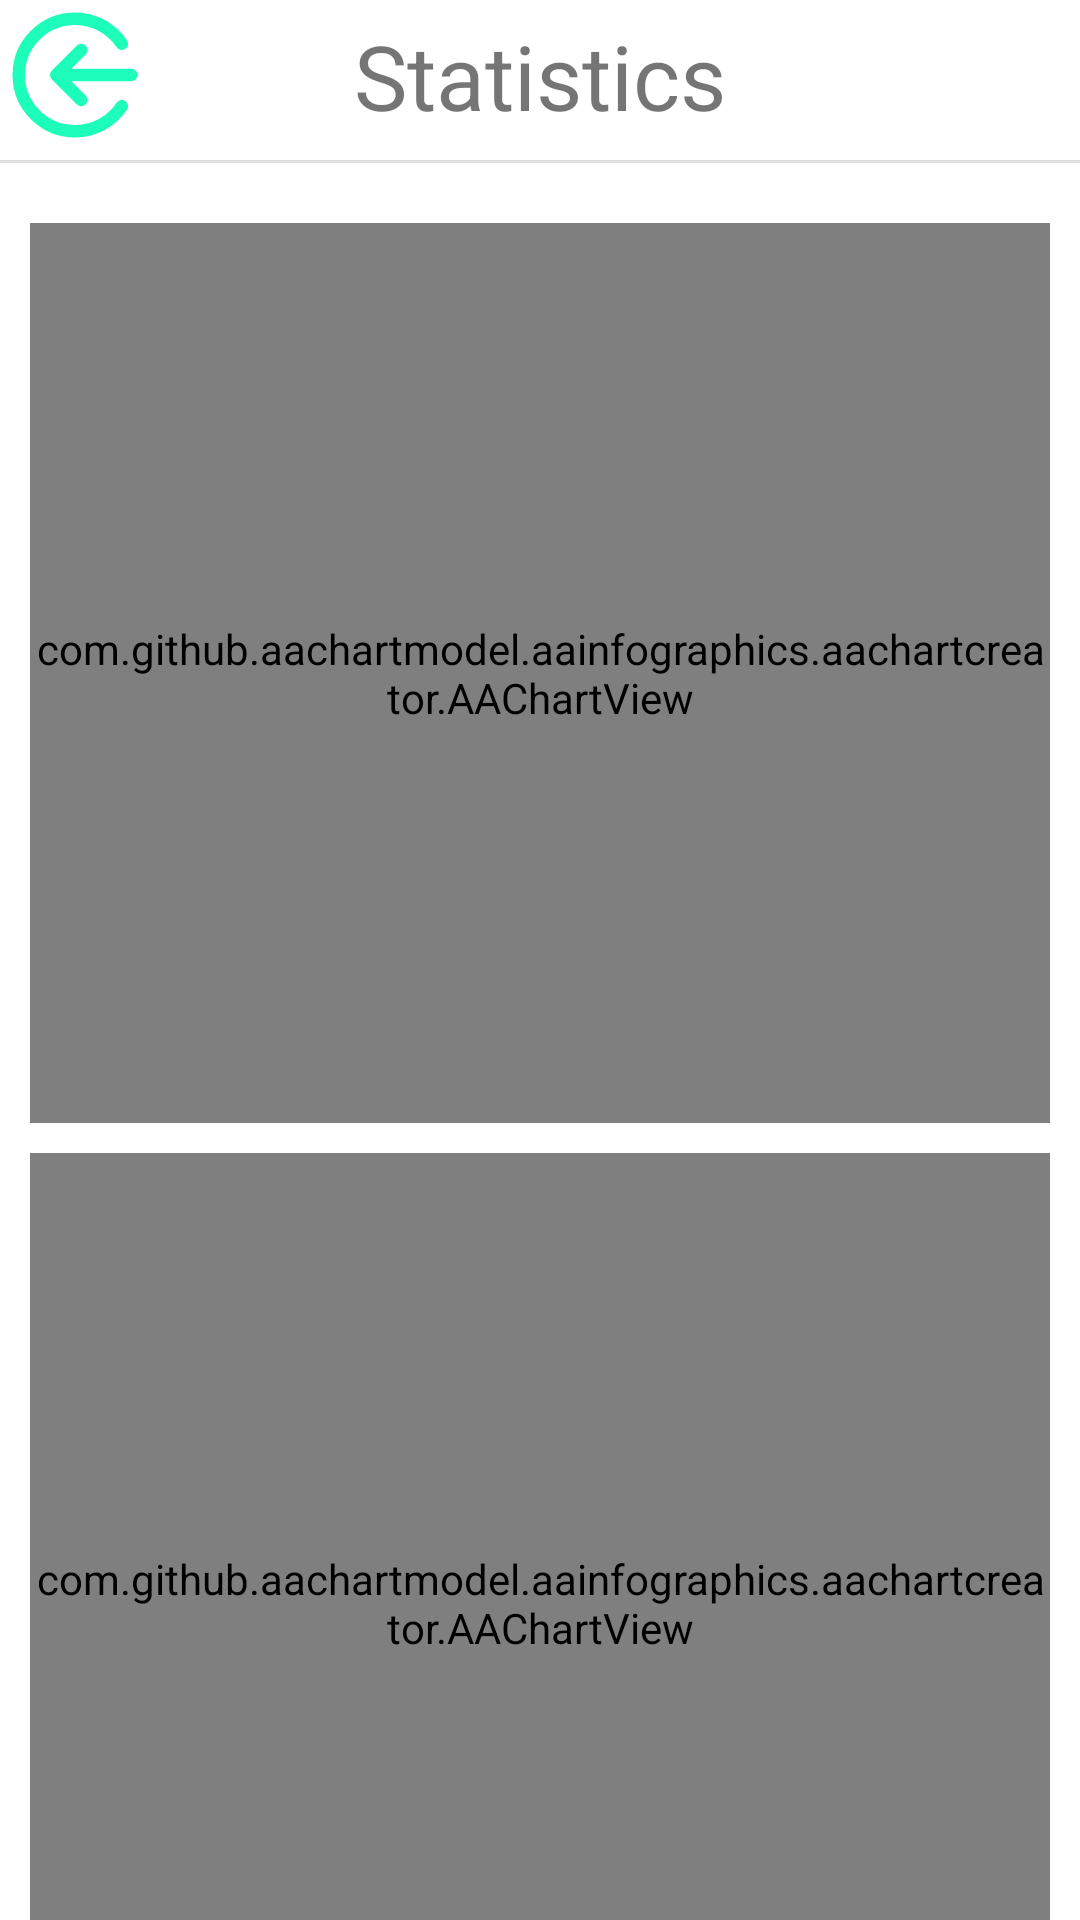

Icon click points for this 1080*1920 phone screenshot, format (x=x, y=y):
back arrow: (x=75, y=75)
